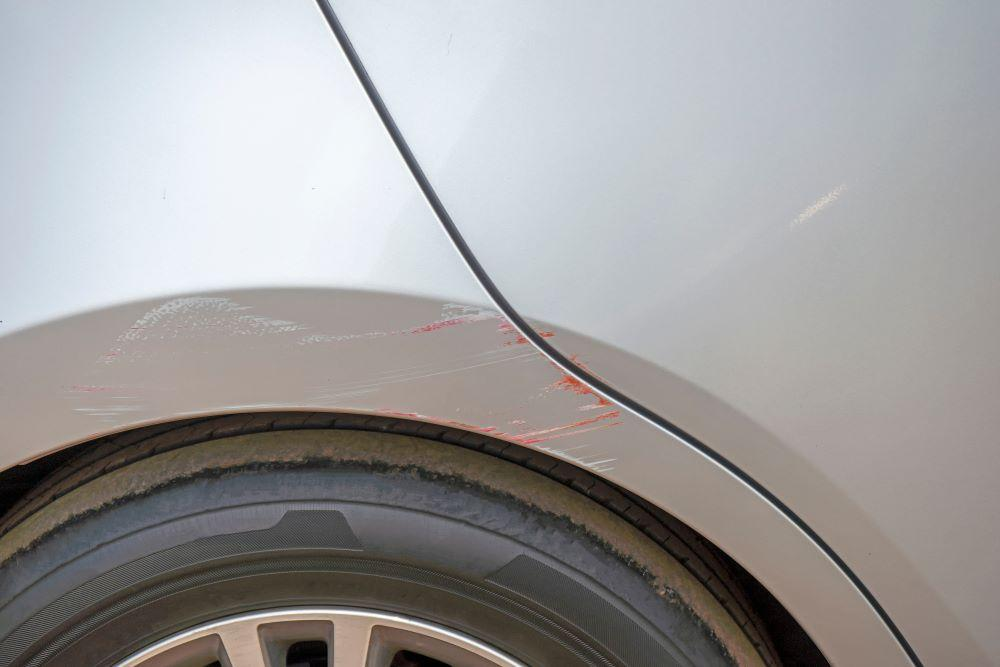scratch: (73, 290, 627, 475)
